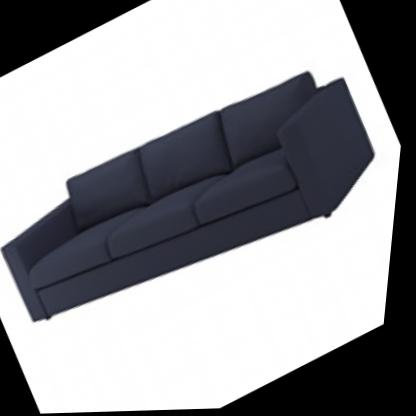Sofa: (0, 3, 415, 389)
